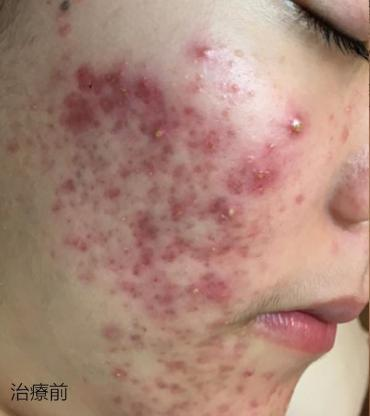Nodules: (67, 58, 132, 95), (58, 86, 99, 143)
Papules: (190, 35, 218, 68)
pustules: (276, 110, 314, 140), (181, 276, 211, 304), (216, 199, 243, 230), (145, 116, 172, 146)
